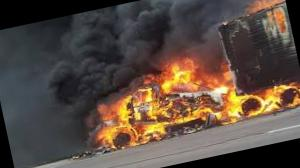Fire: (87, 36, 300, 147)
Smoke: (27, 0, 266, 107), (0, 14, 101, 168)
